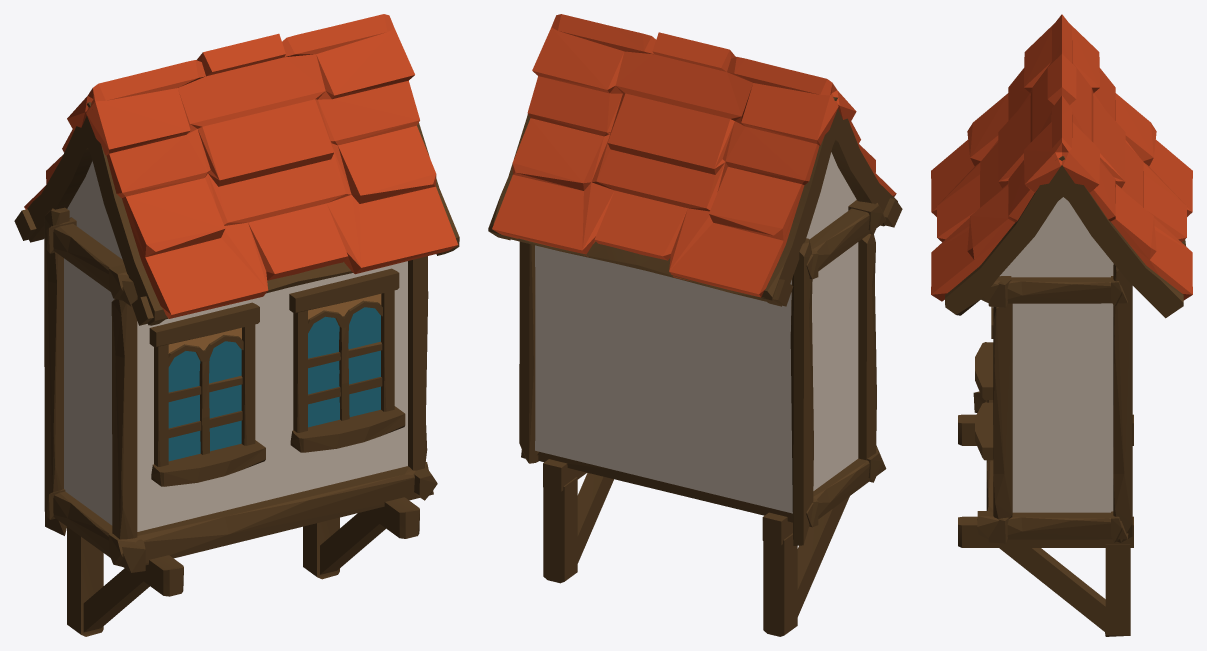
The model's file is SM_dormer_03.fbx.
3 views of the same model, side by side, from view 1: azimuth 30°, elevation 25°; view 2: azimuth 150°, elevation 25°; view 3: azimuth 270°, elevation 25° (orthographic). The views are drawn at different scales.
Visible parts, largest first — view 1: Box413785; view 2: Box413785; view 3: Box413785.
Part boxes in pixels (x1,y1,x2,y2): Box413785: (14,14,459,636); Box413785: (488,14,902,636); Box413785: (931,14,1192,636).
Size of the model in its own units: 140 by 244 by 113.
